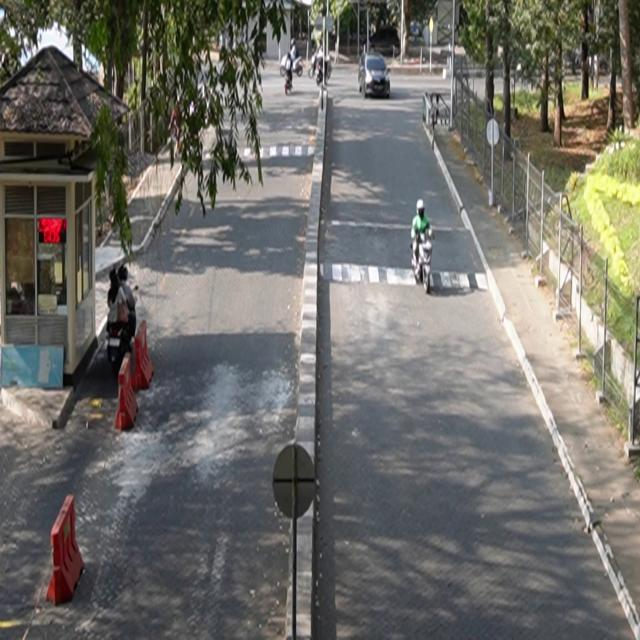car: (359, 52, 391, 99)
